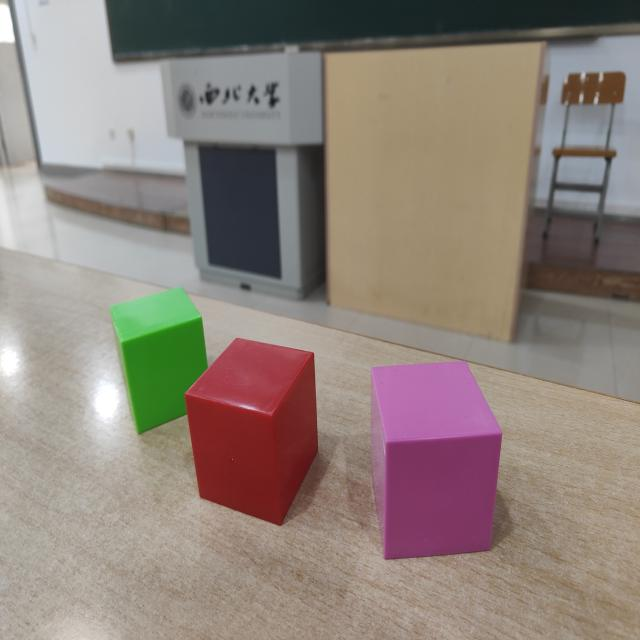green: (109, 290, 209, 435)
pink: (369, 364, 503, 564)
red: (184, 339, 321, 528)
